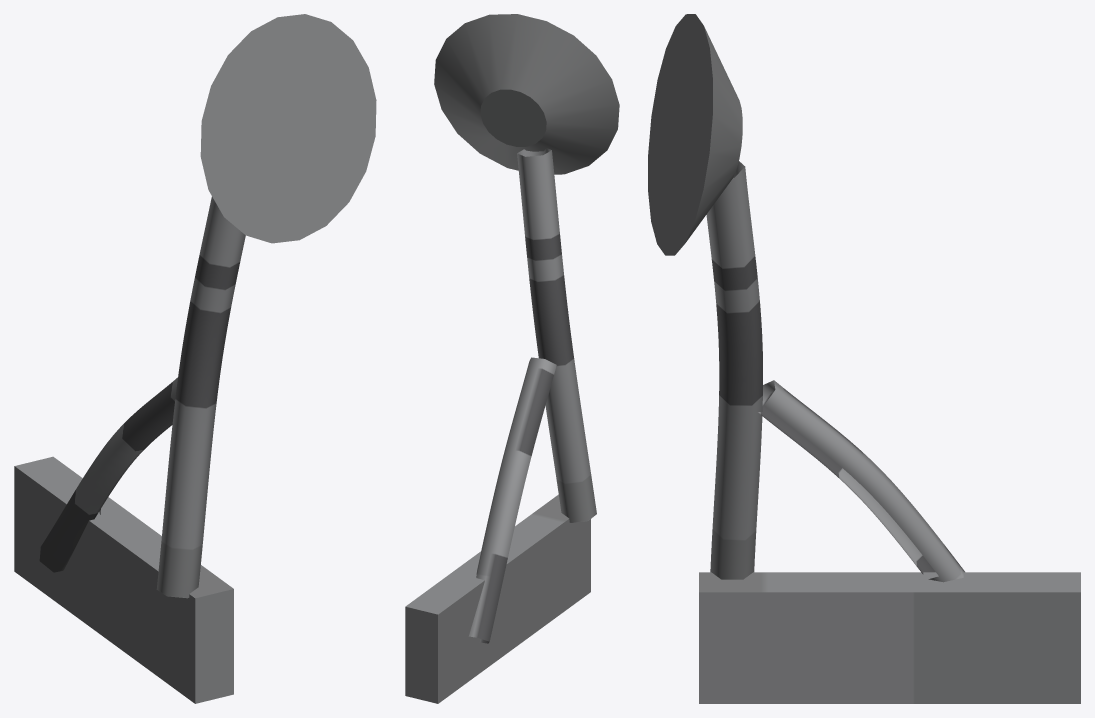
The picture shows the model from 3 angles, left to right: view 1: azimuth 30°, elevation 25°; view 2: azimuth 150°, elevation 25°; view 3: azimuth 270°, elevation 25°; orthographic projection. The views are drawn at different scales.
Size of the model in its own units: 0.2801 by 0.8832 by 0.4937.
